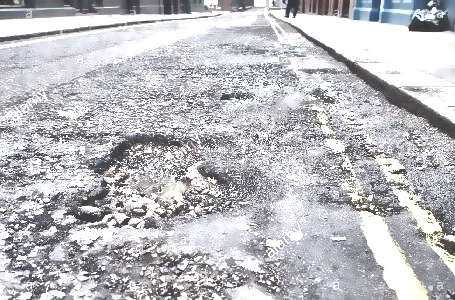pothole: (64, 129, 252, 230), (219, 92, 251, 102)
